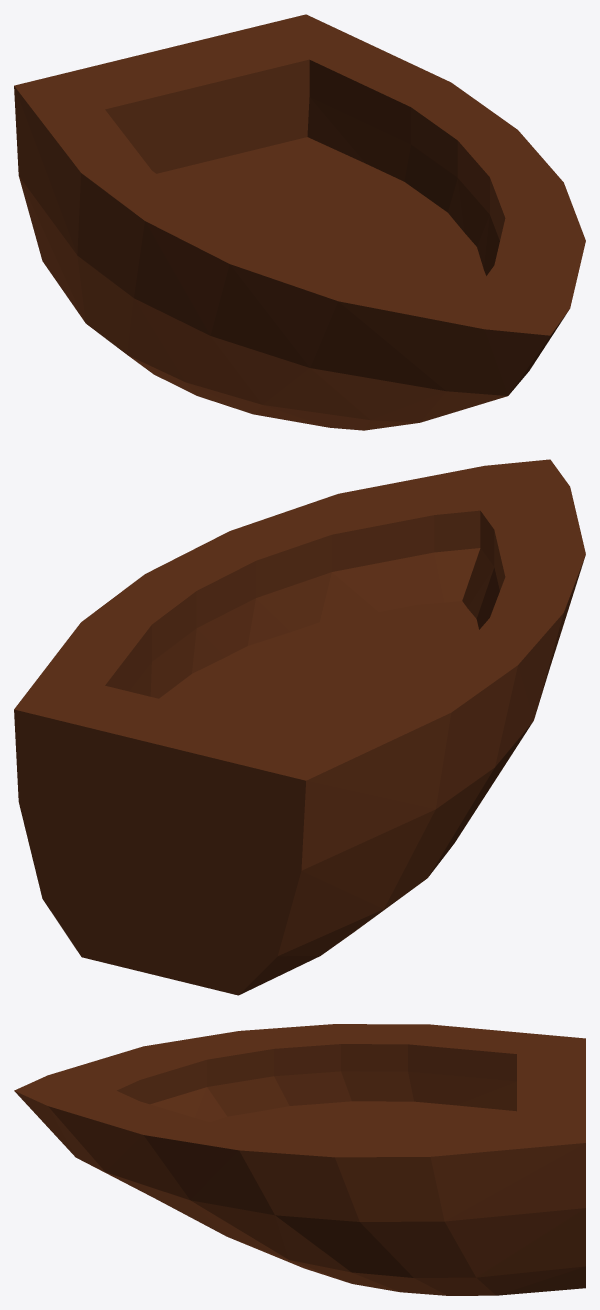
File: boat.obj
3 views of the same model, one above another, from view 1: azimuth 30°, elevation 25°; view 2: azimuth 150°, elevation 25°; view 3: azimuth 270°, elevation 25° (orthographic). The views are drawn at different scales.
Visible parts, largest first — view 1: 船本体_Cube; view 2: 船本体_Cube; view 3: 船本体_Cube.
Boxes of the visible parts, box(x1,y1,x2,y2) form: 船本体_Cube: box(14, 14, 585, 430); 船本体_Cube: box(14, 459, 585, 995); 船本体_Cube: box(14, 1024, 585, 1295).
Size of the model in its own units: 6.14 by 3.64 by 11.13.
1 material, 1 textured.
